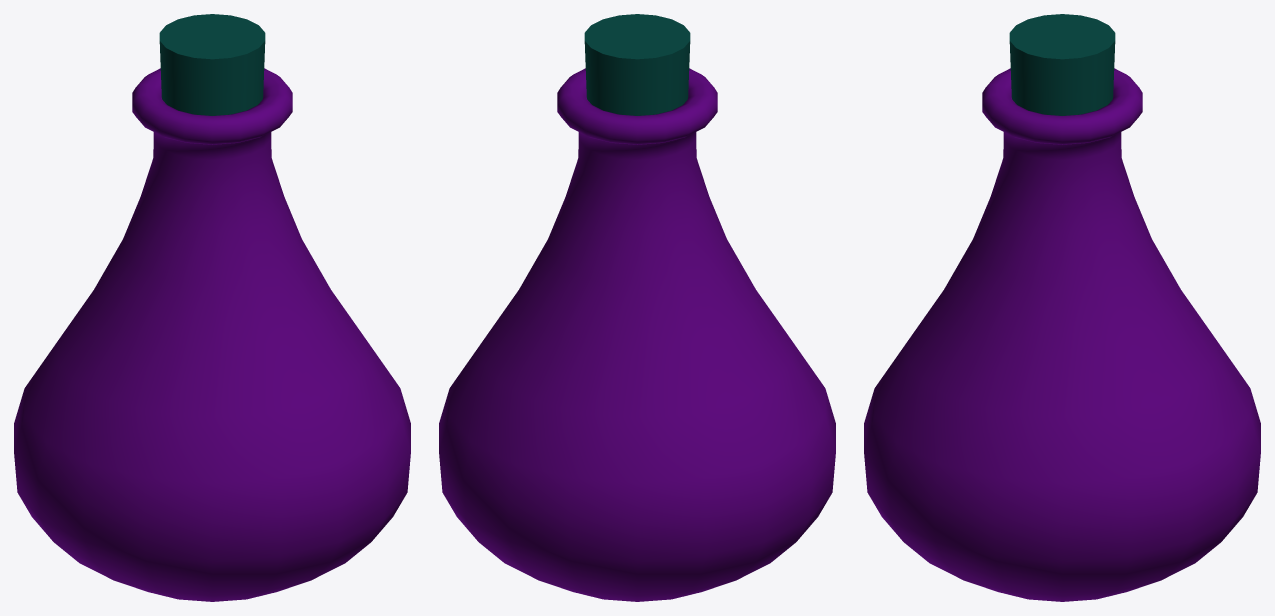
Rendered from liquidmedicine_low_uv_id.FBX.
3 renders of one model, left to right at view 1: azimuth 30°, elevation 25°; view 2: azimuth 150°, elevation 25°; view 3: azimuth 270°, elevation 25°, orthographic.
Visible parts, largest first — view 1: Object005; view 2: Object005; view 3: Object005.
Part boxes in pixels (x1=…): Object005: x1=14, y1=14, x2=410, y2=601; Object005: x1=439, y1=14, x2=835, y2=601; Object005: x1=864, y1=14, x2=1260, y2=601.
Size of the model in its own units: 5.52 by 8.11 by 5.44.
